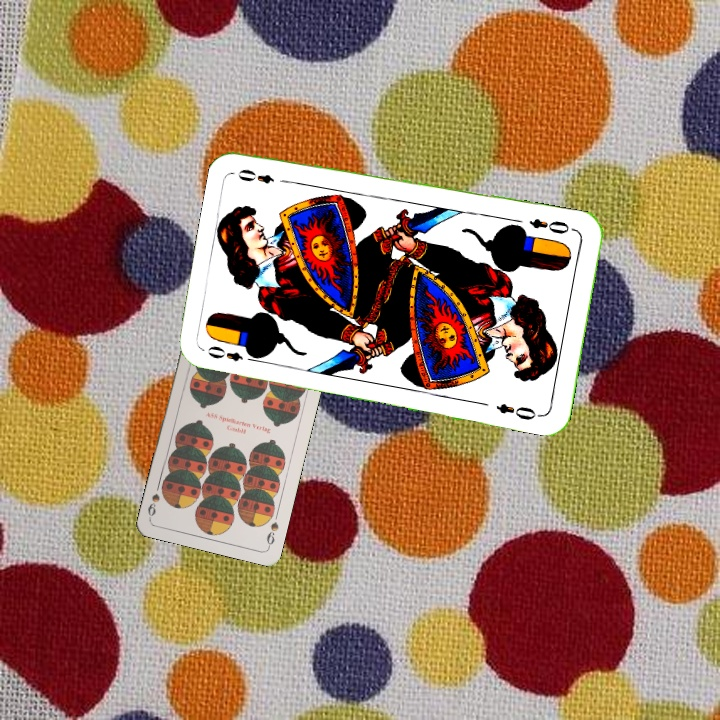EO: (203, 342, 260, 365), (525, 214, 572, 237)
S9: (262, 518, 281, 550)
